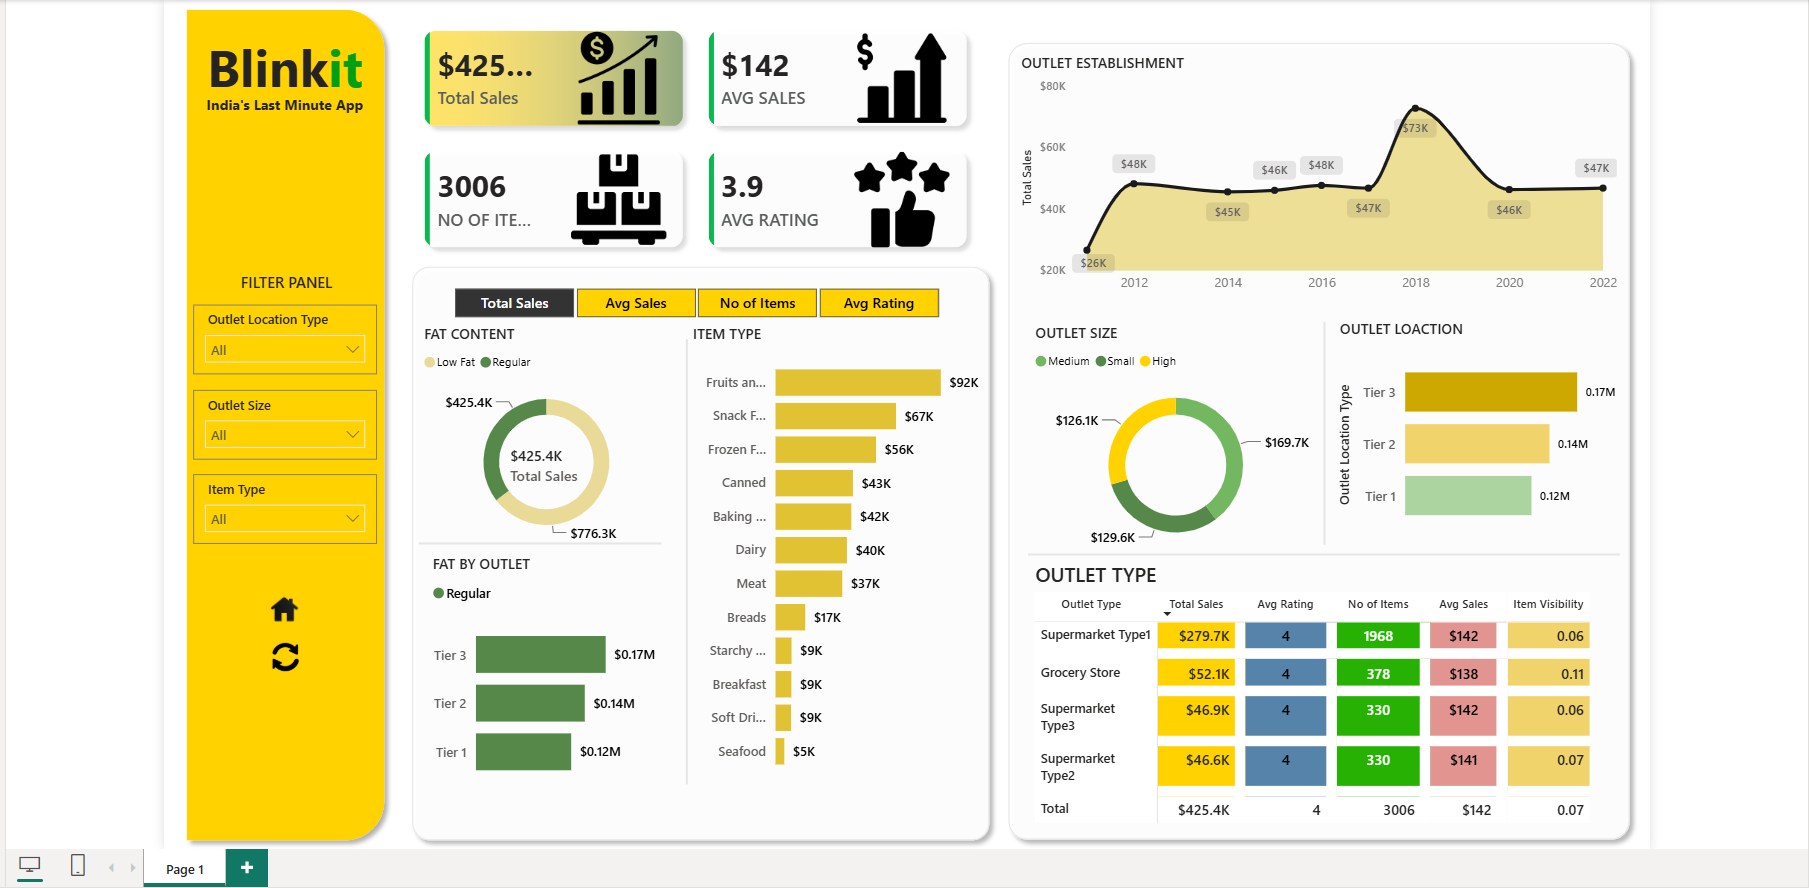

The page's visual inventory and layout, read from the dashboard file:
{"tool":"powerbi","page":{"name":"Page 1","canvas":[1400,800],"ordinal":0},"visuals":[{"type":"shape","box":[12.2,0,204.4,800.4],"z":0},{"type":"textbox","box":[27.1,25,173,74],"z":1000},{"type":"textbox","box":[27.1,84.4,173,30.2],"z":2000},{"type":"cardVisual","fields":{"Data":["BlinkIT Grocery Data.Total Sales","BlinkIT Grocery Data.Avg Sales","BlinkIT Grocery Data.No of Items","BlinkIT Grocery Data.Avg Rating"]},"box":[217,0,569.6,263.9],"z":3000},{"type":"shape","box":[224.8,241.9,561.5,558.3],"z":4000},{"type":"donutChart","title":" FAT CONTENT","fields":{"Y":["BlinkIT Grocery Data.Total Sales"],"Category":["BlinkIT Grocery Data.Item Fat Content"]},"box":[239.6,304.4,240.8,217.1],"z":5000},{"type":"slicer","fields":{"Values":["Metrics.Metrics"]},"box":[248.3,264.5,505.3,39.9],"z":6000},{"type":"cardVisual","fields":{"Data":["BlinkIT Grocery Data.Total Sales"]},"box":[297,400.5,124.8,74.9],"z":7000},{"type":"clusteredBarChart","title":"FAT BY OUTLET","fields":{"Y":["BlinkIT Grocery Data.Total Sales"],"Category":["BlinkIT Grocery Data.Outlet Location Type"],"Series":["BlinkIT Grocery Data.Item Fat Content"]},"box":[248.3,520.3,219.6,229.6],"z":8000},{"type":"shape","box":[239.6,502.8,228.3,18.7],"z":9000},{"type":"shape","box":[459.2,319.4,67.4,419.2],"z":10000},{"type":"barChart","title":"ITEM TYPE","fields":{"Y":["BlinkIT Grocery Data.Total Sales"],"Category":["BlinkIT Grocery Data.Item Type"]},"box":[492.9,304.4,279.5,434.2],"z":11000},{"type":"shape","box":[786.3,32,603,768.2],"z":12000},{"type":"lineChart","title":"OUTLET ESTABLISHMENT","fields":{"Y":["BlinkIT Grocery Data.Total Sales"],"Category":["BlinkIT Grocery Data.Outlet Establishment Year"]},"box":[802.3,49,571.1,235.5],"z":13000},{"type":"shape","box":[814,512.5,557.2,19.2],"z":14000},{"type":"donutChart","title":" OUTLET SIZE","fields":{"Y":["BlinkIT Grocery Data.Total Sales"],"Category":["BlinkIT Grocery Data.Outlet Size"]},"box":[816.1,302.6,275,225],"z":15000},{"type":"shape","box":[1059,302.6,68.2,209.9],"z":16000},{"type":"clusteredBarChart","title":"OUTLET LOACTION","fields":{"Y":["Sum(BlinkIT Grocery Data.Sales)"],"Category":["BlinkIT Grocery Data.Outlet Location Type"]},"box":[1102.7,300.4,270.6,212],"z":17000},{"type":"pivotTable","title":"OUTLET TYPE","fields":{"Rows":["BlinkIT Grocery Data.Outlet Type"],"Values":["BlinkIT Grocery Data.Total Sales","BlinkIT Grocery Data.Avg Rating","BlinkIT Grocery Data.No of Items","BlinkIT Grocery Data.Avg Sales","Avg(BlinkIT Grocery Data.Item Visibility)"]},"box":[816.1,527.4,538,264.2],"z":18000},{"type":"slicer","fields":{"Values":["BlinkIT Grocery Data.Outlet Location Type"]},"box":[27.5,286.8,172.9,66.1],"z":18001},{"type":"slicer","fields":{"Values":["BlinkIT Grocery Data.Outlet Size"]},"box":[27.5,367.2,172.9,66.1],"z":18002},{"type":"slicer","fields":{"Values":["BlinkIT Grocery Data.Item Type"]},"box":[27.1,446.2,173,65.7],"z":18003},{"type":"textbox","box":[28.5,252.2,173.9,32.5],"z":18004},{"type":"image","box":[90.5,559.4,45.8,28.5],"z":18005},{"type":"image","box":[97.6,603.1,32.5,31.5],"z":18006}]}

Visuals, with their boxes on the page's 1400x800 design canvas (x1, y1, x2, y2). These are canvas units, not pixel positions in the 1809x888 screenshot, which may show the page scaled, cropped or inside an application window:
shape: Rect(12, 0, 217, 800)
textbox: Rect(27, 25, 200, 99)
textbox: Rect(27, 84, 200, 115)
cardVisual - BlinkIT Grocery Data.Total Sales x BlinkIT Grocery Data.Avg Sales: Rect(217, 0, 787, 264)
shape: Rect(225, 242, 786, 800)
" FAT CONTENT" donutChart: Rect(240, 304, 480, 522)
slicer - Metrics.Metrics: Rect(248, 264, 754, 304)
cardVisual - BlinkIT Grocery Data.Total Sales: Rect(297, 400, 422, 475)
"FAT BY OUTLET" clusteredBarChart: Rect(248, 520, 468, 750)
shape: Rect(240, 503, 468, 522)
shape: Rect(459, 319, 527, 739)
"ITEM TYPE" barChart: Rect(493, 304, 772, 739)
shape: Rect(786, 32, 1389, 800)
"OUTLET ESTABLISHMENT" lineChart: Rect(802, 49, 1373, 284)
shape: Rect(814, 512, 1371, 532)
" OUTLET SIZE" donutChart: Rect(816, 303, 1091, 528)
shape: Rect(1059, 303, 1127, 512)
"OUTLET LOACTION" clusteredBarChart: Rect(1103, 300, 1373, 512)
"OUTLET TYPE" pivotTable: Rect(816, 527, 1354, 792)
slicer - BlinkIT Grocery Data.Outlet Location Type: Rect(28, 287, 200, 353)
slicer - BlinkIT Grocery Data.Outlet Size: Rect(28, 367, 200, 433)
slicer - BlinkIT Grocery Data.Item Type: Rect(27, 446, 200, 512)
textbox: Rect(28, 252, 202, 285)
image: Rect(90, 559, 136, 588)
image: Rect(98, 603, 130, 635)
